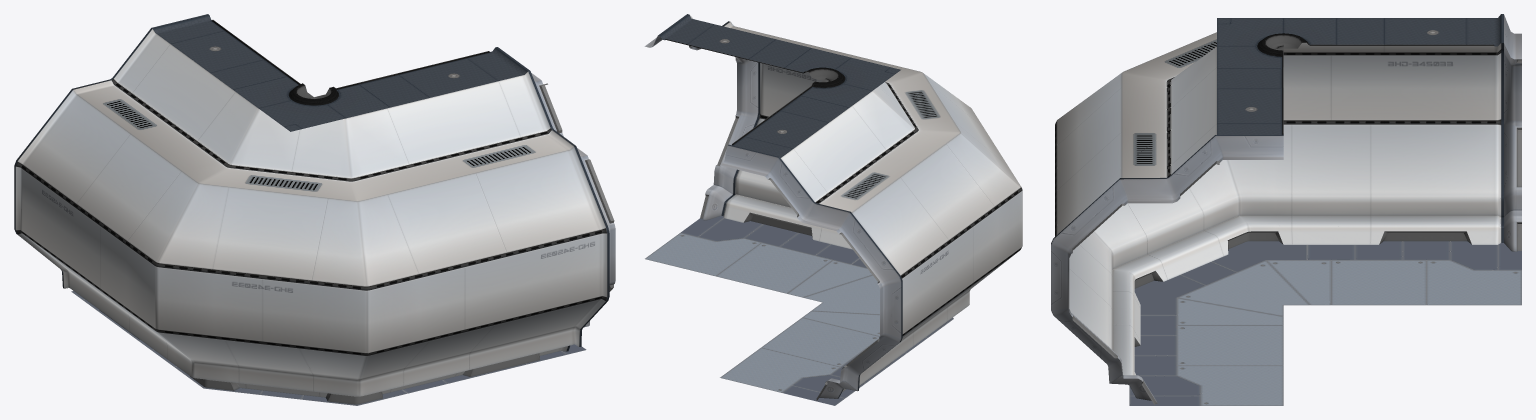
The model's file is Corr_A_corner_outer_large.fbx.
3 renders of one model, left to right at view 1: azimuth 30°, elevation 25°; view 2: azimuth 150°, elevation 25°; view 3: azimuth 270°, elevation 25°, orthographic. The views are drawn at different scales.
Visible parts, largest first — view 1: Corr_A_corner_outer_large; view 2: Corr_A_corner_outer_large; view 3: Corr_A_corner_outer_large.
Part boxes in pixels (x1,y1,x2,y2): Corr_A_corner_outer_large: [14, 14, 615, 405]; Corr_A_corner_outer_large: [644, 14, 1022, 405]; Corr_A_corner_outer_large: [1051, 14, 1521, 405].
Bounding box in the file's own units: 500 × 304 × 494.
8 materials, 8 textured.
